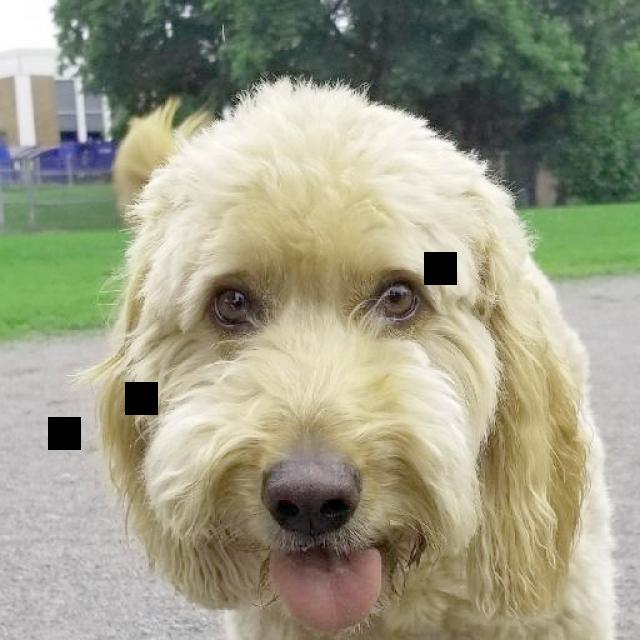adult_dog: (75, 71, 624, 640)
